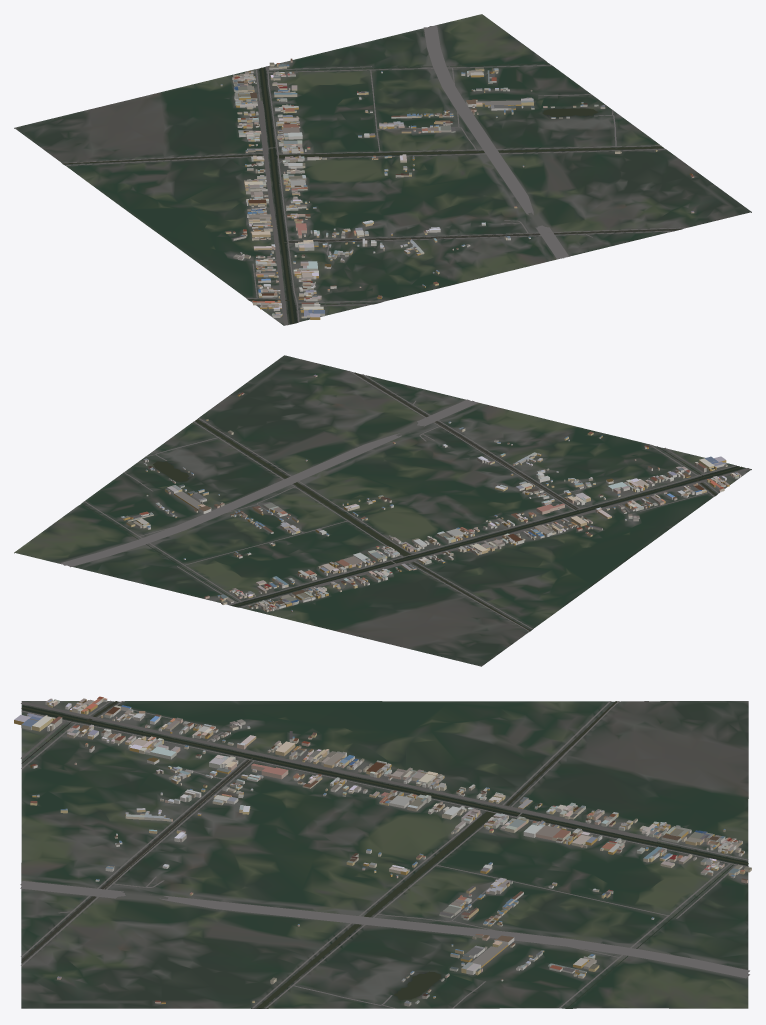
The picture shows the model from 3 angles, top to bottom: view 1: azimuth 30°, elevation 25°; view 2: azimuth 150°, elevation 25°; view 3: azimuth 270°, elevation 25°; orthographic projection. The views are drawn at different scales.
Parts seen in each view (by area): view 1: ground, buildings, roads, water; view 2: ground, buildings, roads, water; view 3: ground, buildings, roads, water.
Boxes of the visible parts, x1=… form: ground: x1=14, y1=14, x2=751, y2=325; buildings: x1=220, y1=58, x2=694, y2=319; roads: x1=62, y1=25, x2=686, y2=325; water: x1=62, y1=63, x2=681, y2=323; ground: x1=14, y1=355, x2=751, y2=666; buildings: x1=120, y1=374, x2=741, y2=612; roads: x1=61, y1=371, x2=750, y2=631; water: x1=81, y1=372, x2=744, y2=631; ground: x1=21, y1=701, x2=748, y2=1008; buildings: x1=14, y1=696, x2=751, y2=1006; roads: x1=20, y1=700, x2=749, y2=1008; water: x1=21, y1=701, x2=748, y2=1008.
Size of the model in its own units: 1407 by 16.27 by 1422.
